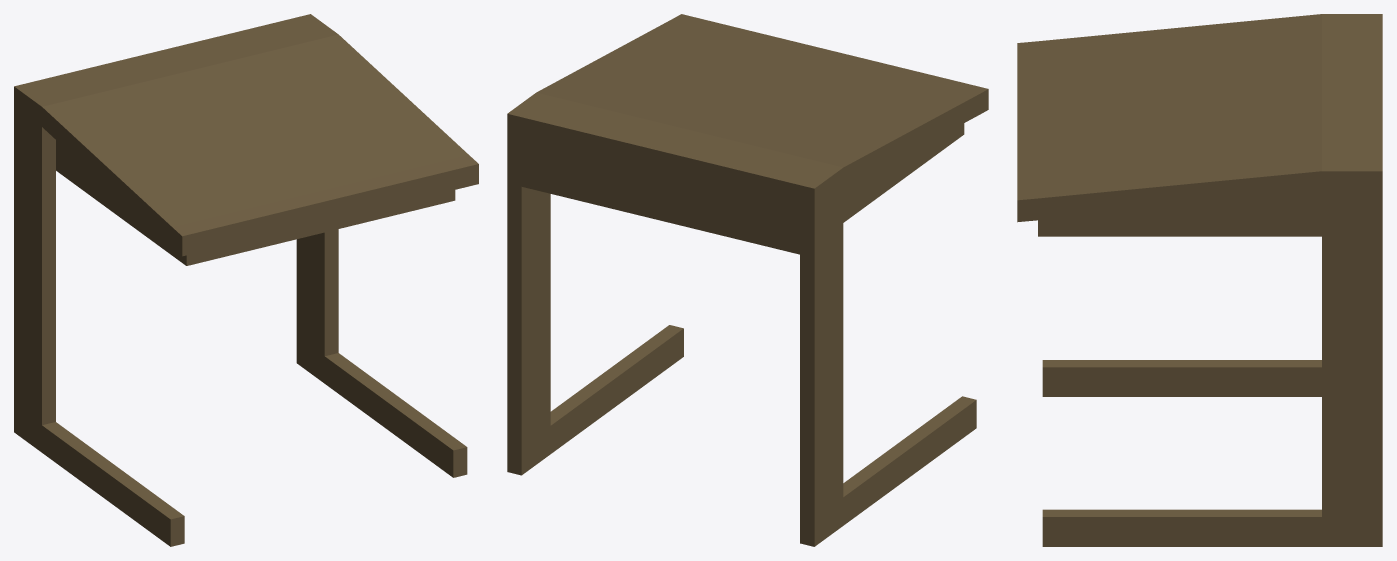
The model's file is DD_1_desk_HENRY.fbx.
3 renders of one model, left to right at view 1: azimuth 30°, elevation 25°; view 2: azimuth 150°, elevation 25°; view 3: azimuth 270°, elevation 25°, orthographic. The views are drawn at different scales.
Parts seen in each view (by area): view 1: DD_1_desk; view 2: DD_1_desk; view 3: DD_1_desk.
Boxes of the visible parts, bbox=[...] form: DD_1_desk: bbox=[14, 14, 478, 546]; DD_1_desk: bbox=[507, 14, 988, 546]; DD_1_desk: bbox=[1017, 14, 1382, 546].
Size of the model in its own units: 6.13 by 6.83 by 6.02.
